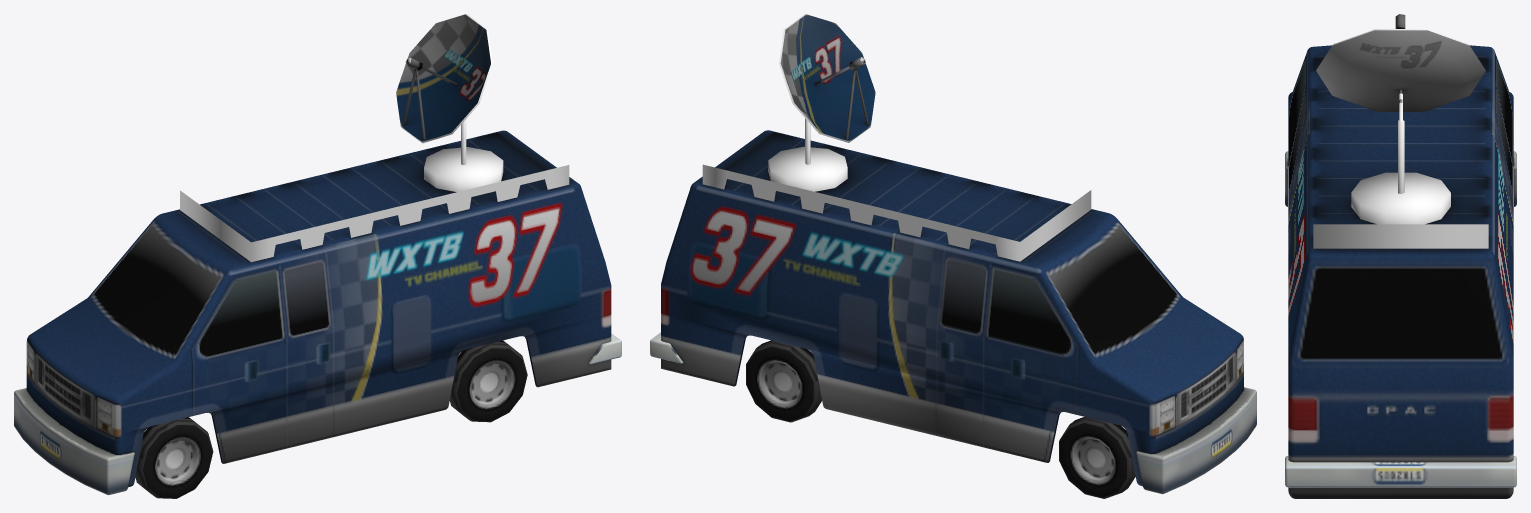
The model's file is stklib_tvVan_a_main.glb.
The picture shows the model from 3 angles, left to right: view 1: azimuth 30°, elevation 25°; view 2: azimuth 150°, elevation 25°; view 3: azimuth 270°, elevation 25°; orthographic projection. The views are drawn at different scales.
Parts seen in each view (by area): view 1: stktex_tvVan_a.jpg__, stk_greyMetal_a.png__; view 2: stktex_tvVan_a.jpg__, stk_greyMetal_a.png__; view 3: stktex_tvVan_a.jpg__, stk_greyMetal_a.png__.
Part boxes in pixels (bbox=[...]): stktex_tvVan_a.jpg__: bbox=[14, 14, 621, 498]; stk_greyMetal_a.png__: bbox=[180, 14, 569, 262]; stktex_tvVan_a.jpg__: bbox=[650, 14, 1256, 498]; stk_greyMetal_a.png__: bbox=[702, 14, 1091, 261]; stktex_tvVan_a.jpg__: bbox=[1285, 14, 1516, 498]; stk_greyMetal_a.png__: bbox=[1313, 29, 1488, 248].
Size of the model in its own units: 6.57 by 4.31 by 2.04.
Materials: 2 (1 with a texture image).
